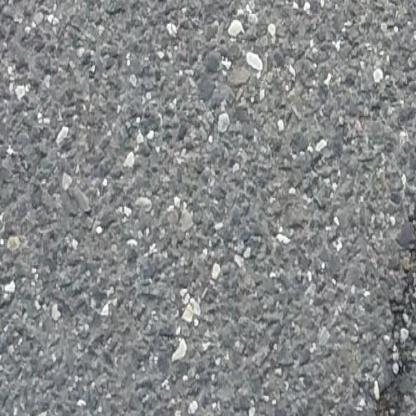Cracks: (379, 196, 416, 416)
